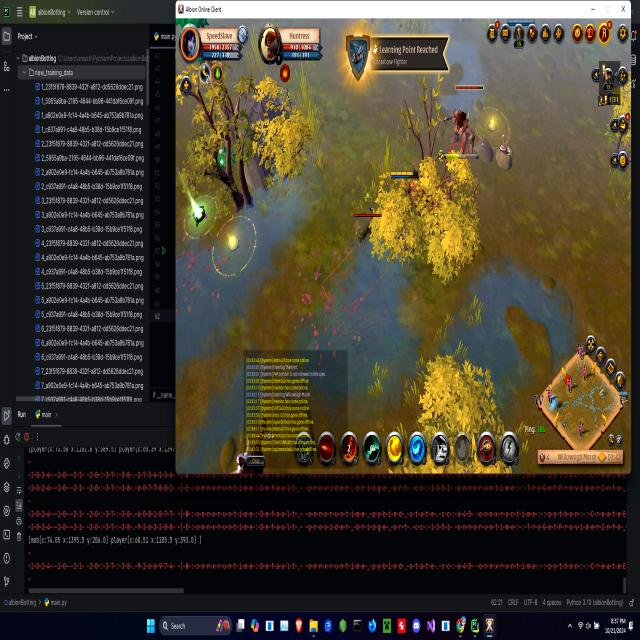hide: (212, 148, 237, 172)
ore: (440, 75, 487, 168), (351, 208, 387, 240)
red: (391, 170, 424, 181)
silver: (318, 148, 460, 329)
wisp caged: (177, 17, 244, 152)
